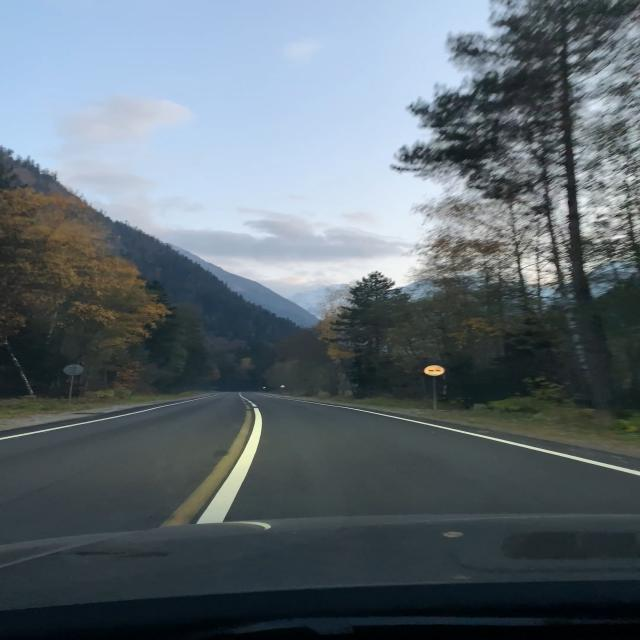asphalt: (0, 392, 640, 544)
grass: (288, 395, 640, 456), (0, 391, 208, 431)
